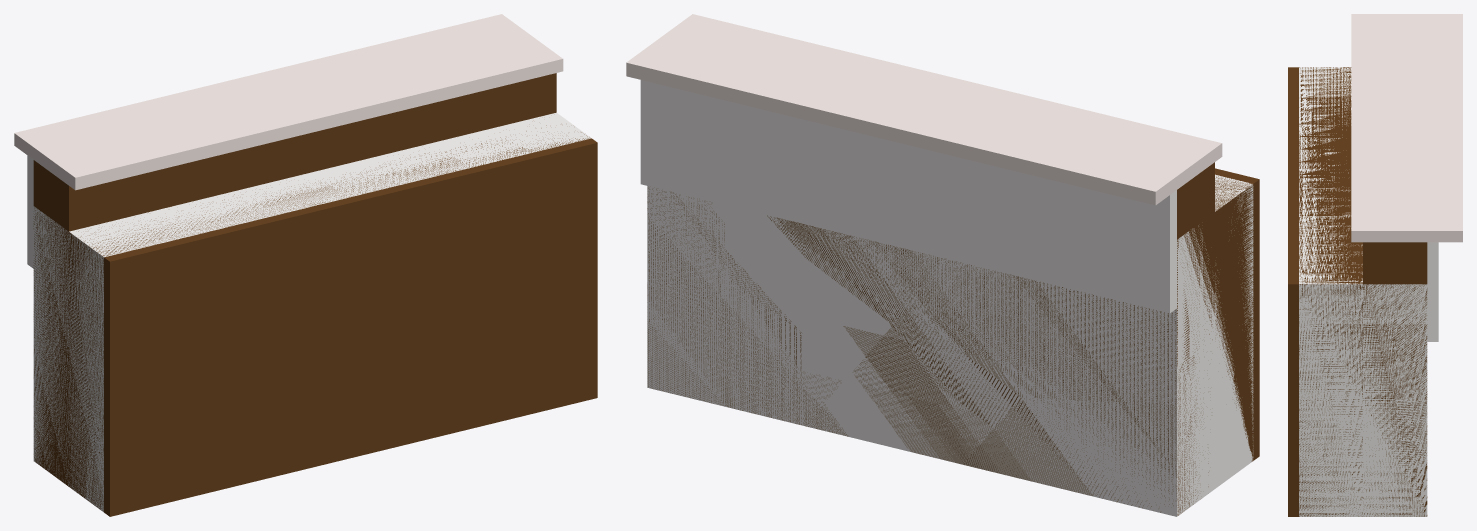
File: ban_le_tan.fbx
The picture shows the model from 3 angles, left to right: view 1: azimuth 30°, elevation 25°; view 2: azimuth 150°, elevation 25°; view 3: azimuth 270°, elevation 25°; orthographic projection. The views are drawn at different scales.
Visible parts, largest first — view 1: Cube; view 2: Cube; view 3: Cube.
Boxes of the visible parts, x1,y1,x2,y2 form: Cube: (14,14,597,516); Cube: (626,14,1259,516); Cube: (1288,14,1462,516).
Bounding box in the file's own units: 1200 × 738 × 408.
